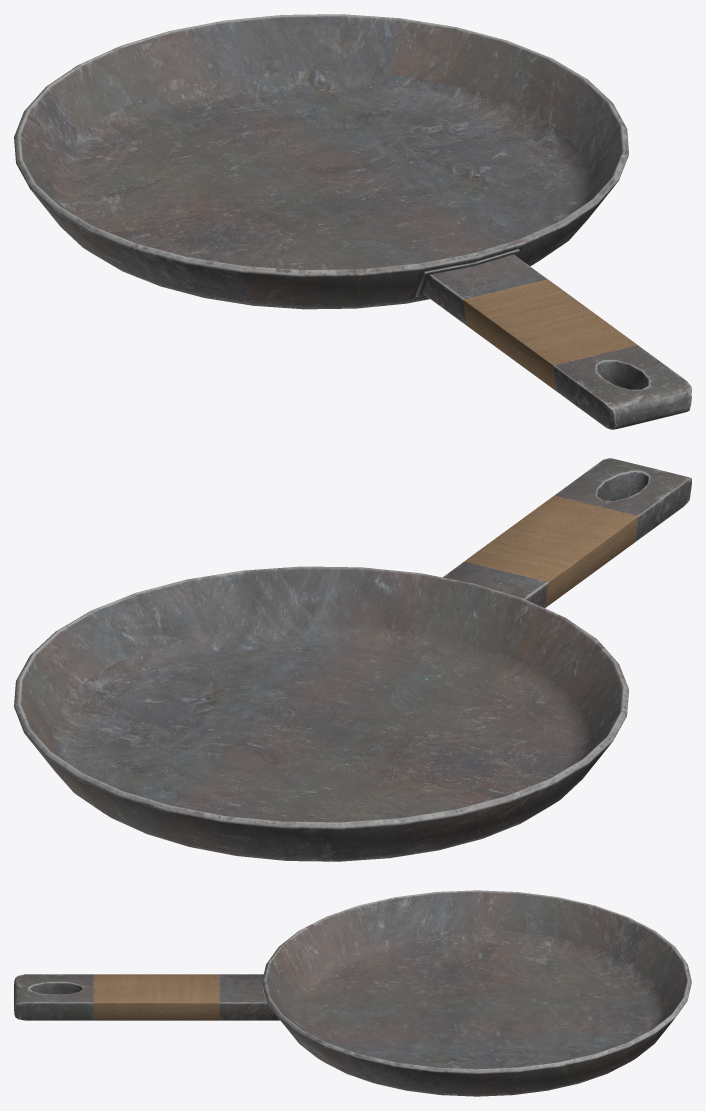
The model's file is Pan.fbx.
3 renders of one model, top to bottom at view 1: azimuth 30°, elevation 25°; view 2: azimuth 150°, elevation 25°; view 3: azimuth 270°, elevation 25°, orthographic. The views are drawn at different scales.
Parts seen in each view (by area): view 1: Pan; view 2: Pan; view 3: Pan.
Boxes of the visible parts, left/top/right/bottom form: Pan: left=14, top=14, right=691, bottom=429; Pan: left=14, top=458, right=691, bottom=861; Pan: left=14, top=890, right=691, bottom=1096.
Bounding box in the file's own units: 23.44 × 2.48 × 36.96.
